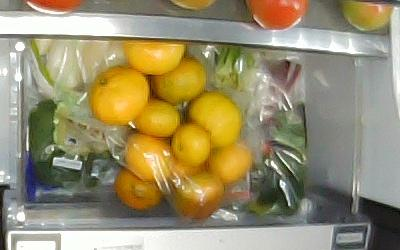tangerine: (89, 65, 149, 125), (186, 90, 240, 147), (151, 56, 204, 102), (115, 168, 165, 211), (122, 40, 185, 74), (135, 98, 181, 138), (204, 141, 250, 180), (171, 124, 210, 166)
tangerine_vinyl: (168, 172, 223, 217), (124, 133, 174, 179), (166, 157, 203, 184)
